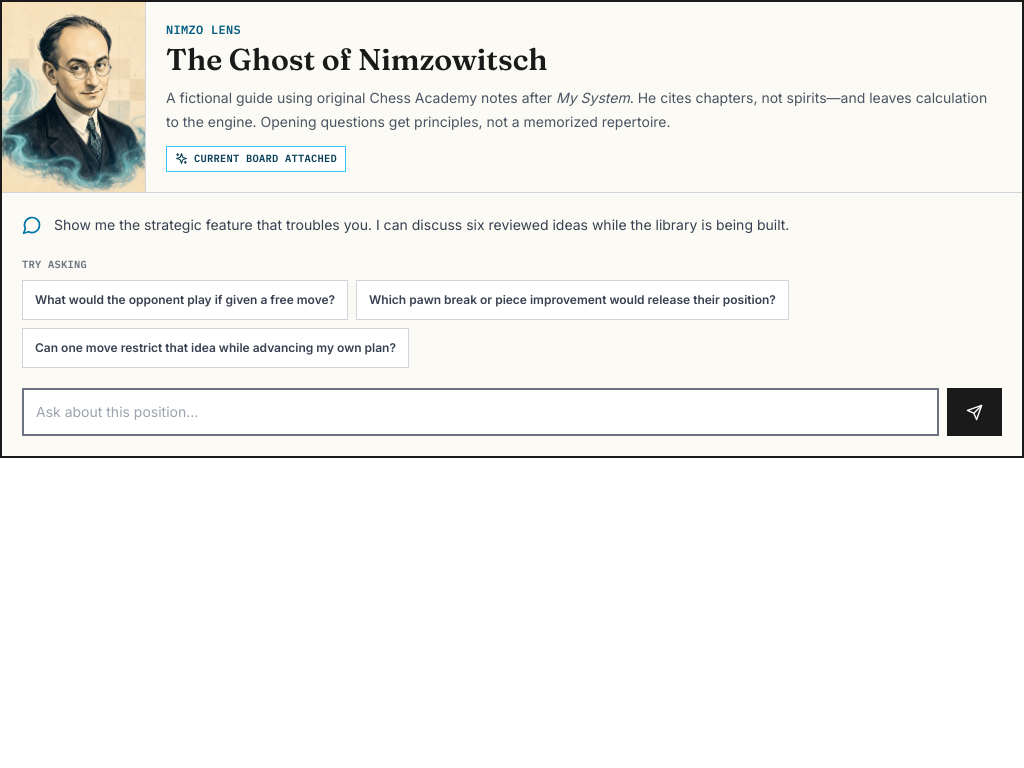
Test case: NimzoCoach › answers a suggested question with an original card and chapter citation
This screenshot has width=1024, height=768.
Click the button "What would the opponent play if given a free move?" at (185, 300), box left=22, top=280, right=348, bottom=320
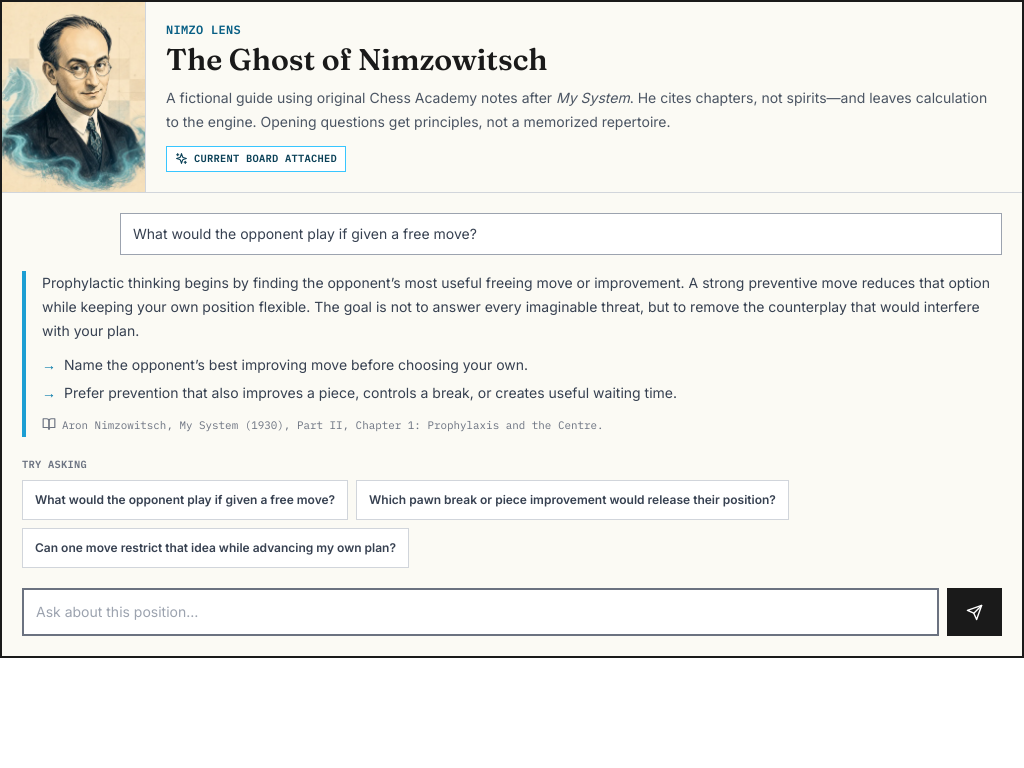
Now the text "Prophylactic thinking begins" is shown, box left=42, top=274, right=990, bottom=339
Now the text "Part II, Chapter 1: Prophylaxis and the Centre" is shown, box left=62, top=418, right=604, bottom=432
